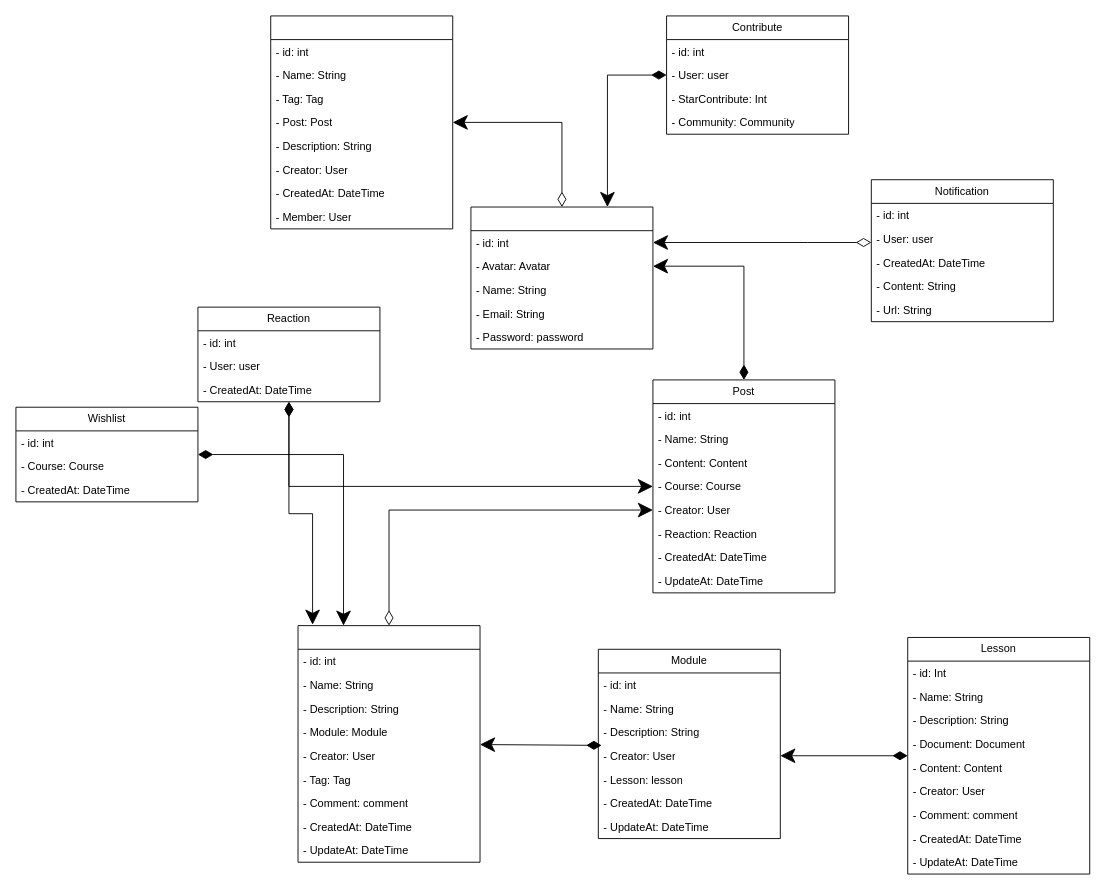
The diagram is 1106 pixels wide and 893 high, and some of its shapes have lost their labels. The shapes that lost their labels are listed below. From the top down, each one's box as (x1, y1, x2, y2) in pixels, then its label:
(270, 15, 453, 229): Community
(470, 206, 653, 349): User
(297, 625, 480, 862): Course
